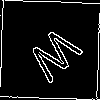W: (25, 25, 90, 91)
